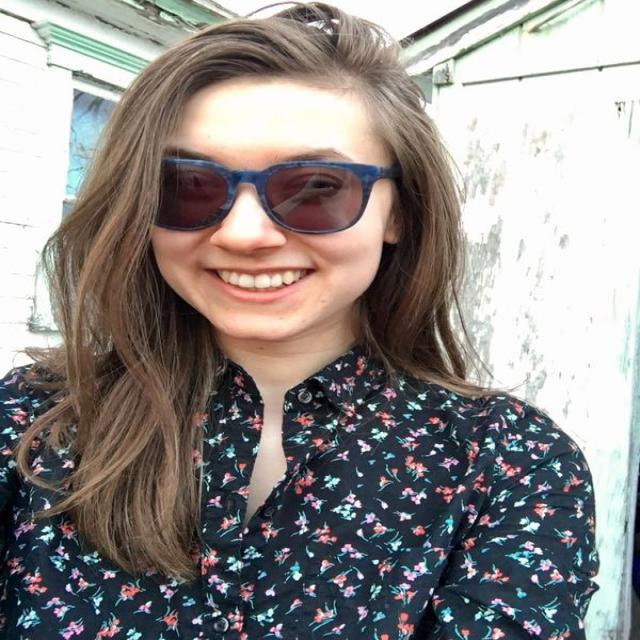2_gafas: (149, 156, 402, 234)
